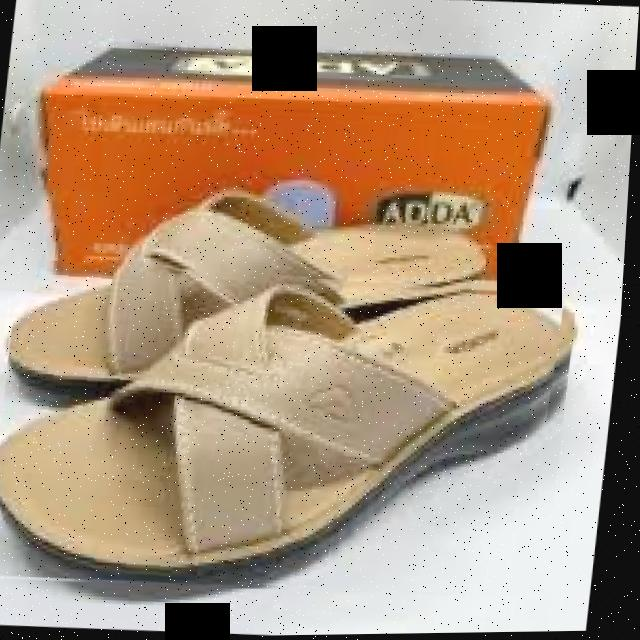shoe: (0, 186, 591, 608), (0, 252, 572, 604)
